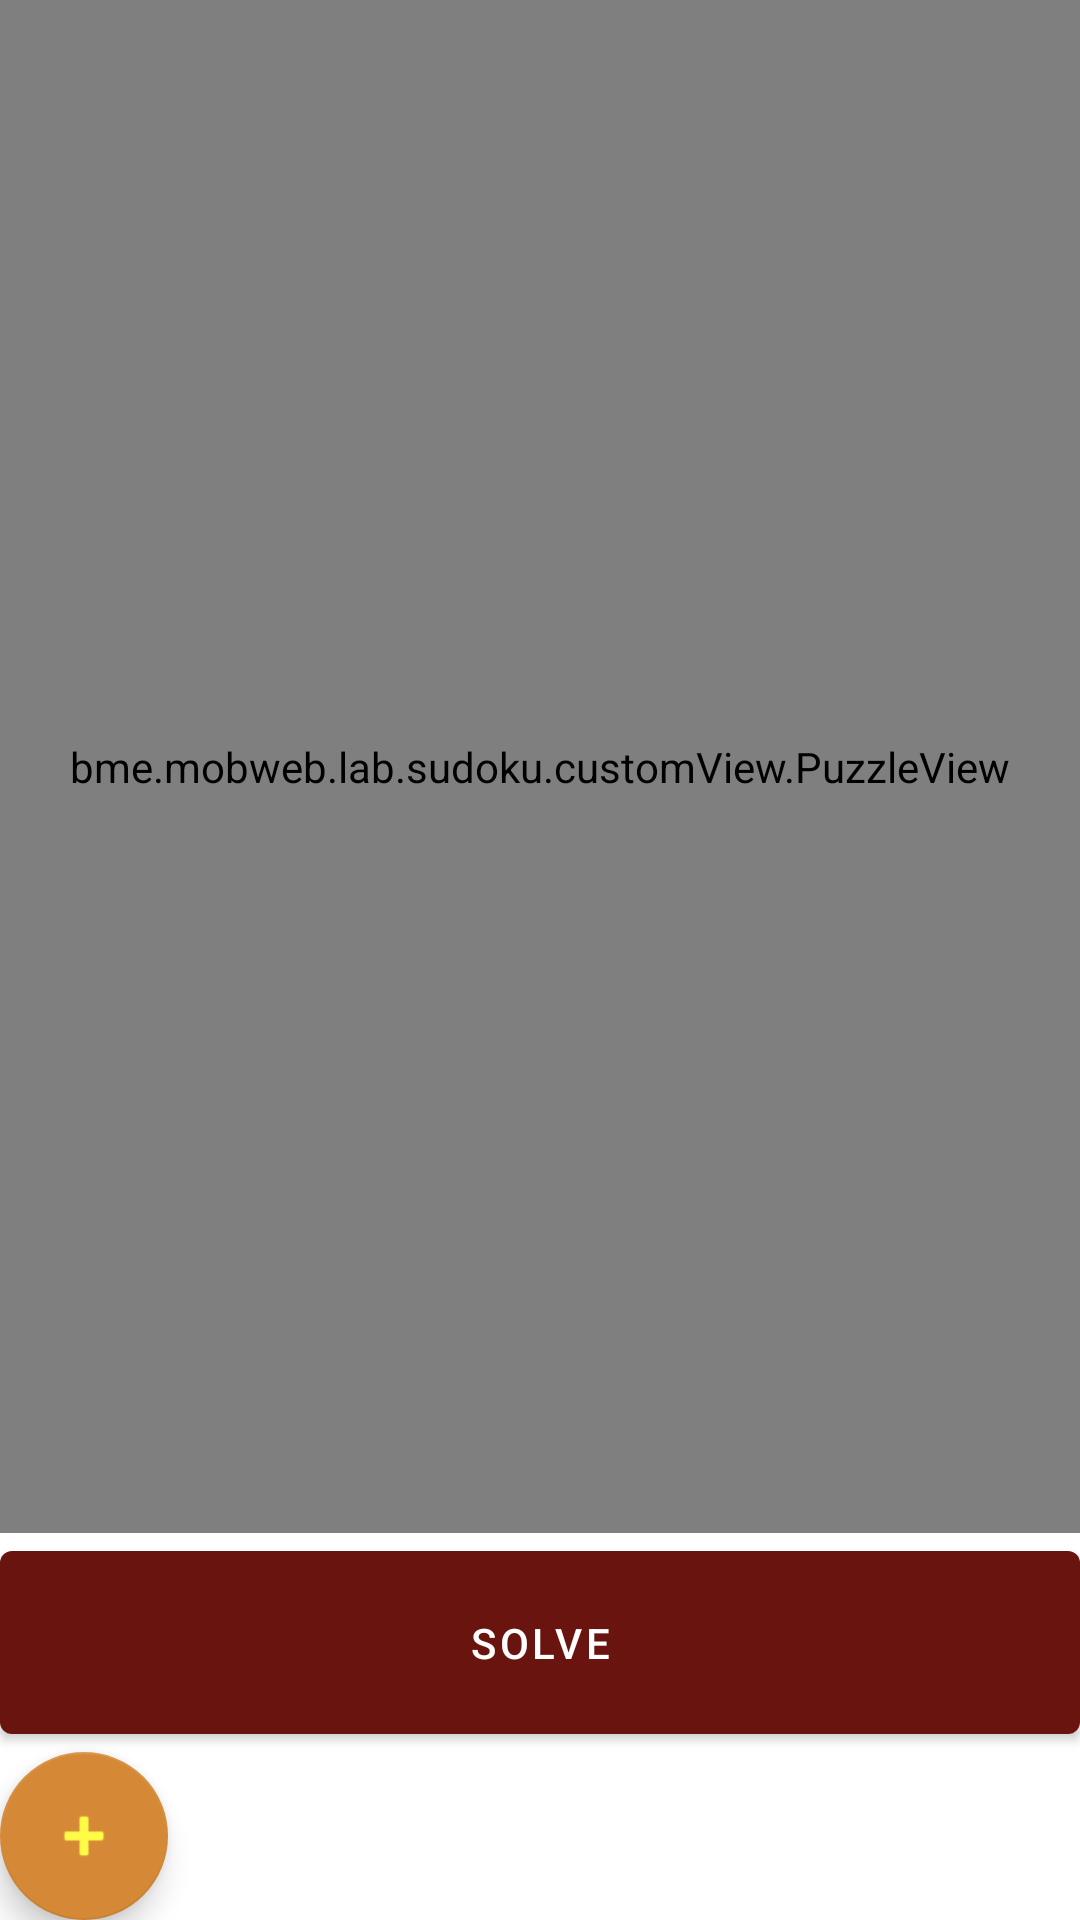

Icons on this 1080x1920 Android screen, each with the point to tap as (x,y):
add: (84,1836)
